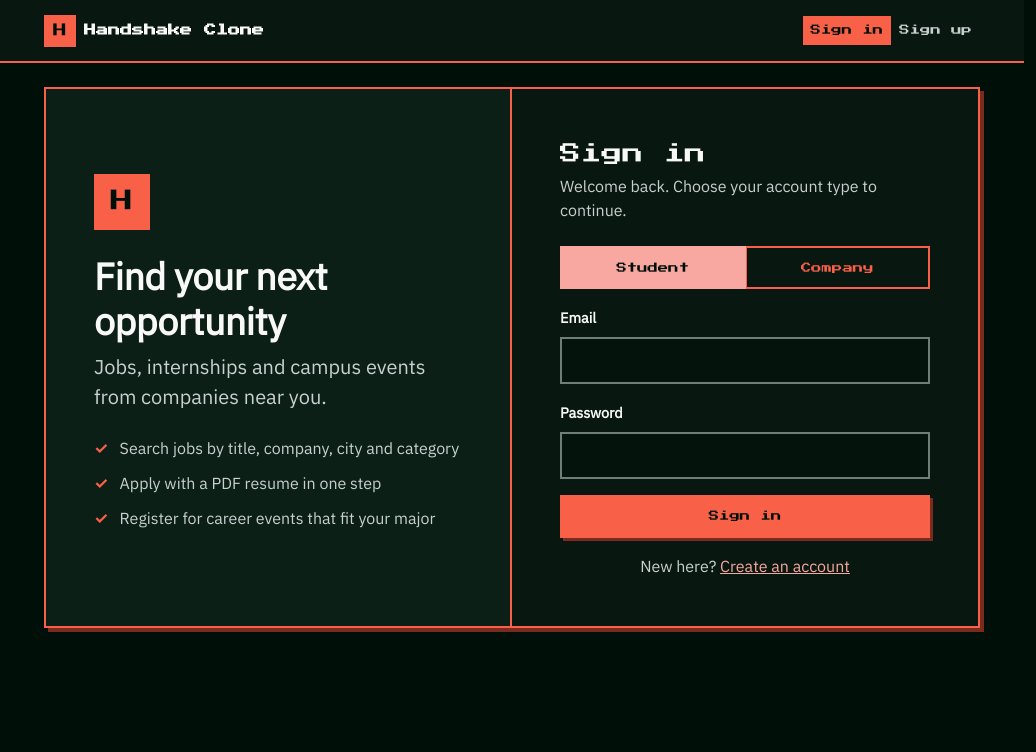
Test: Login page › logs a student in and shows the home page
Type "Ada@Example.com" into the field labelled "Email" at (745, 361), box [560, 337, 930, 384]
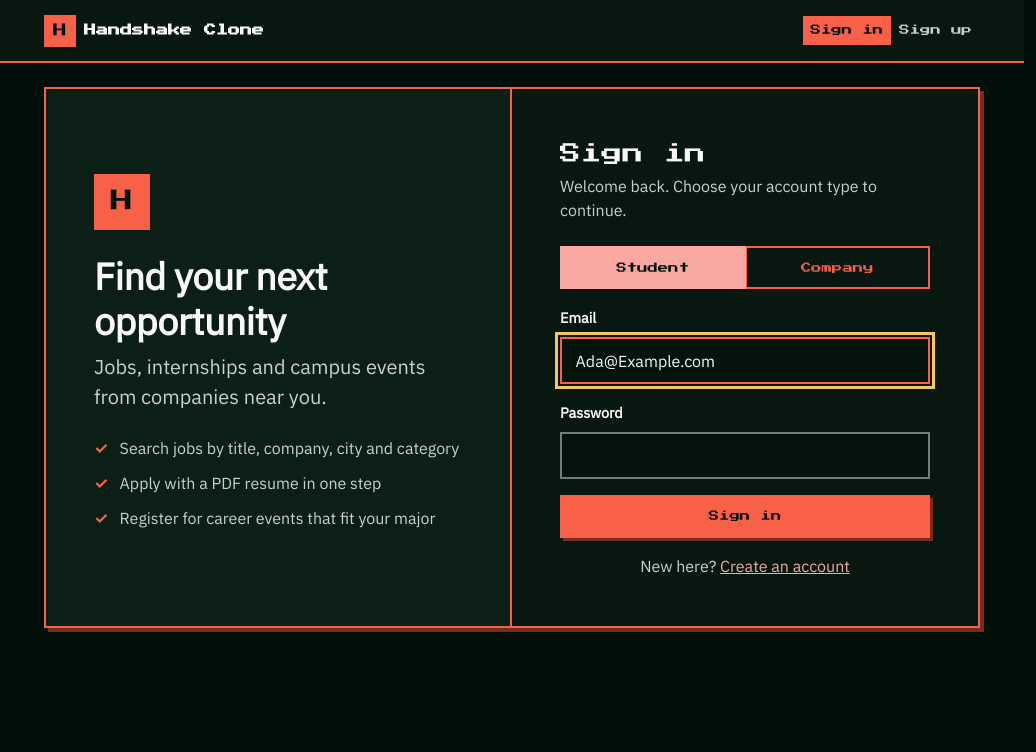
Type "Secret123" into the password field labelled "Password" at (745, 456), box [560, 432, 930, 479]
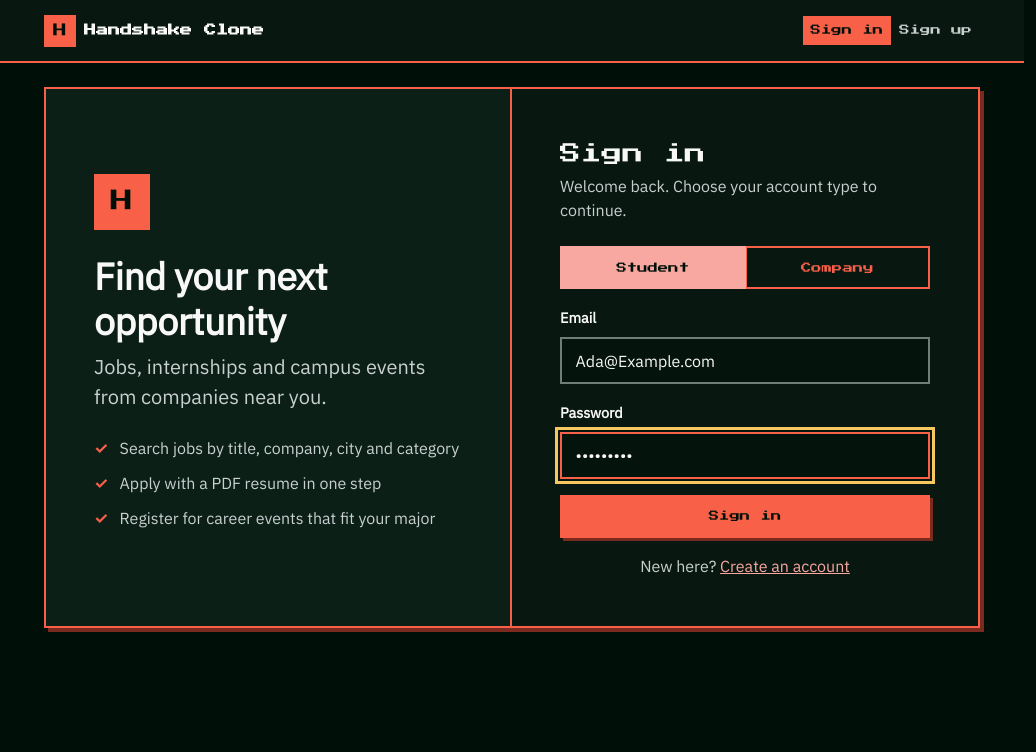
Click the button "Sign in" at (745, 517), box [560, 495, 930, 538]
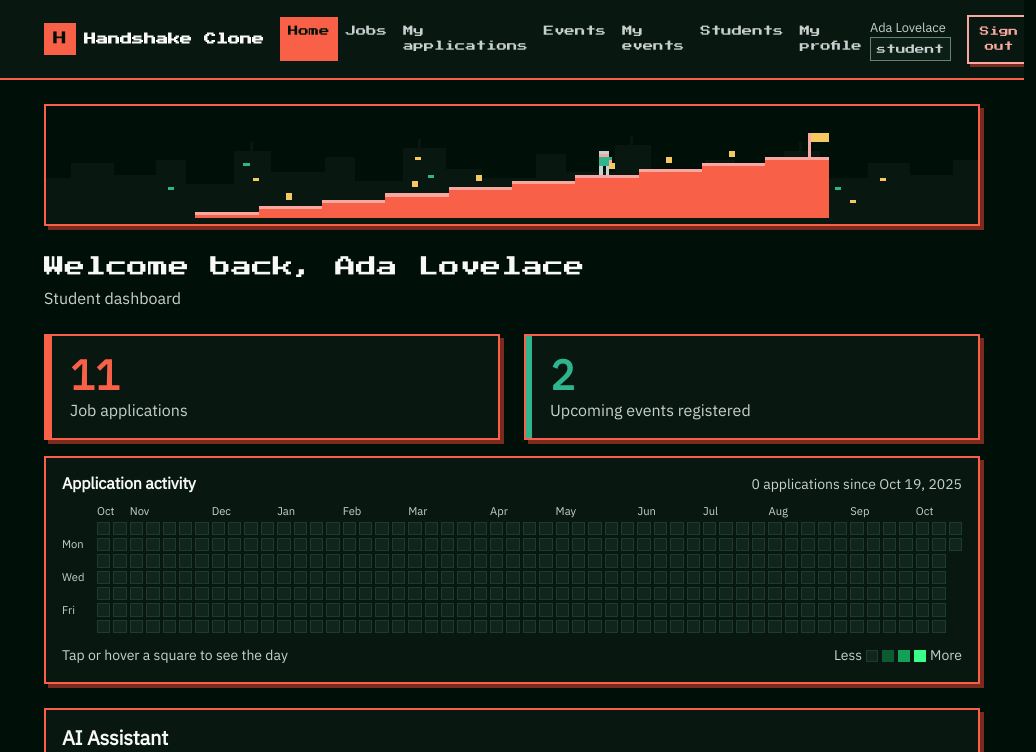
expect the heading "Welcome back, Ada Lovelace" is shown: met, box [44, 250, 585, 283]
